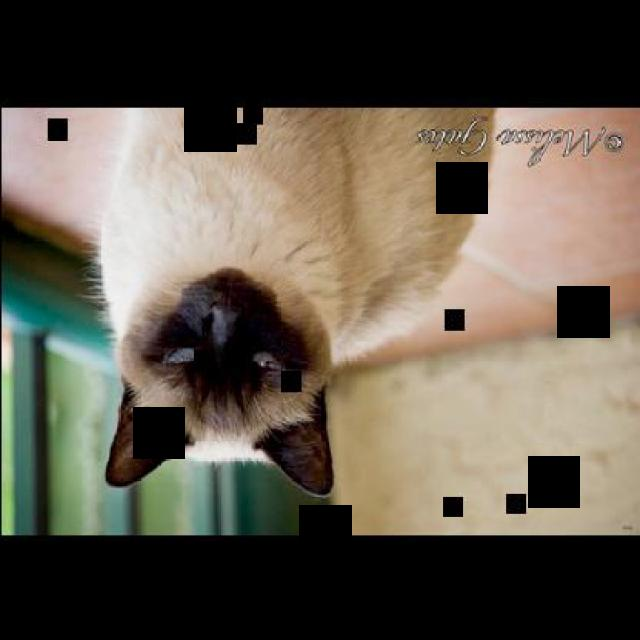unauthorized: (80, 104, 495, 498)
